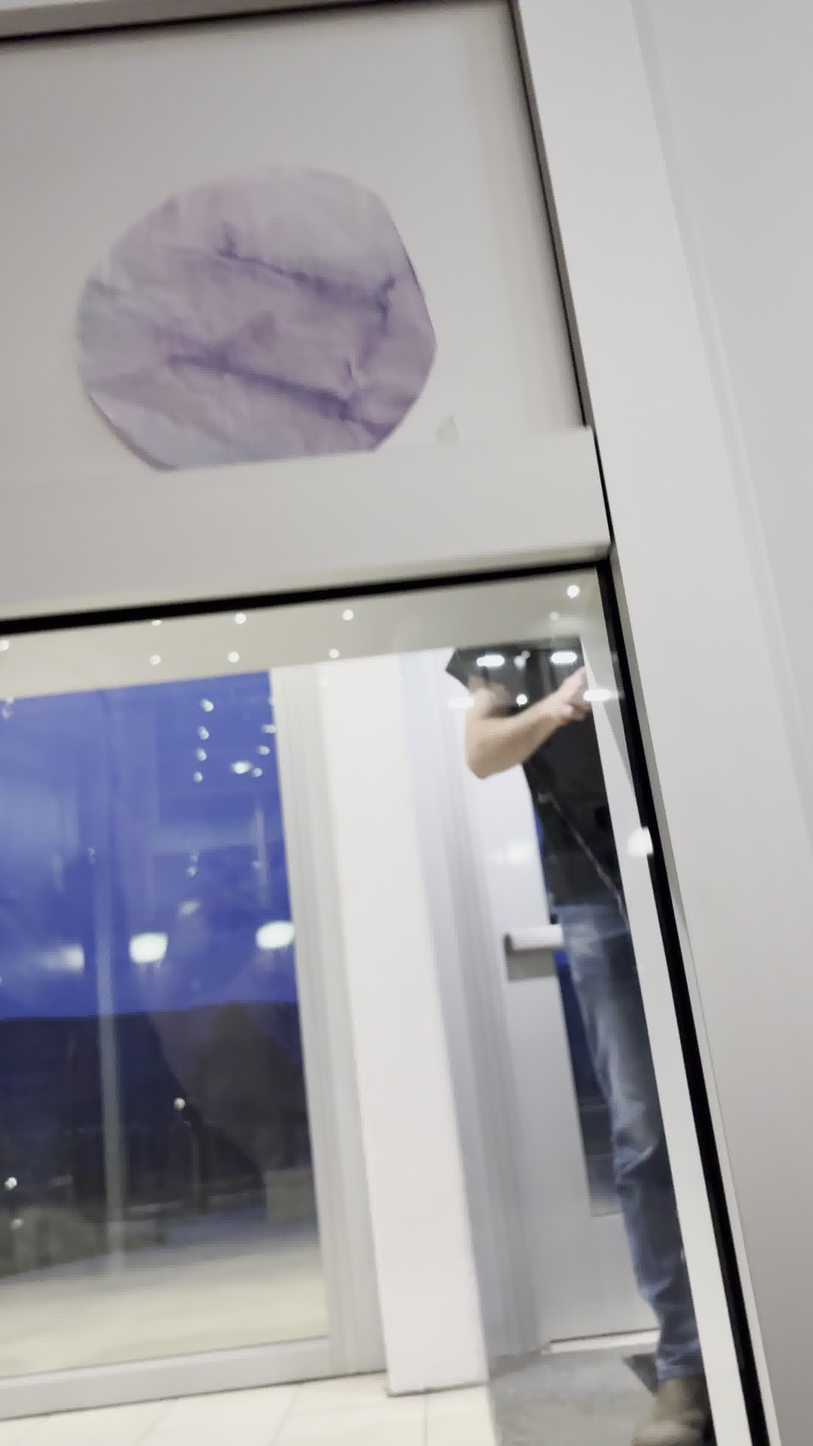Target: (62, 155, 449, 483)
